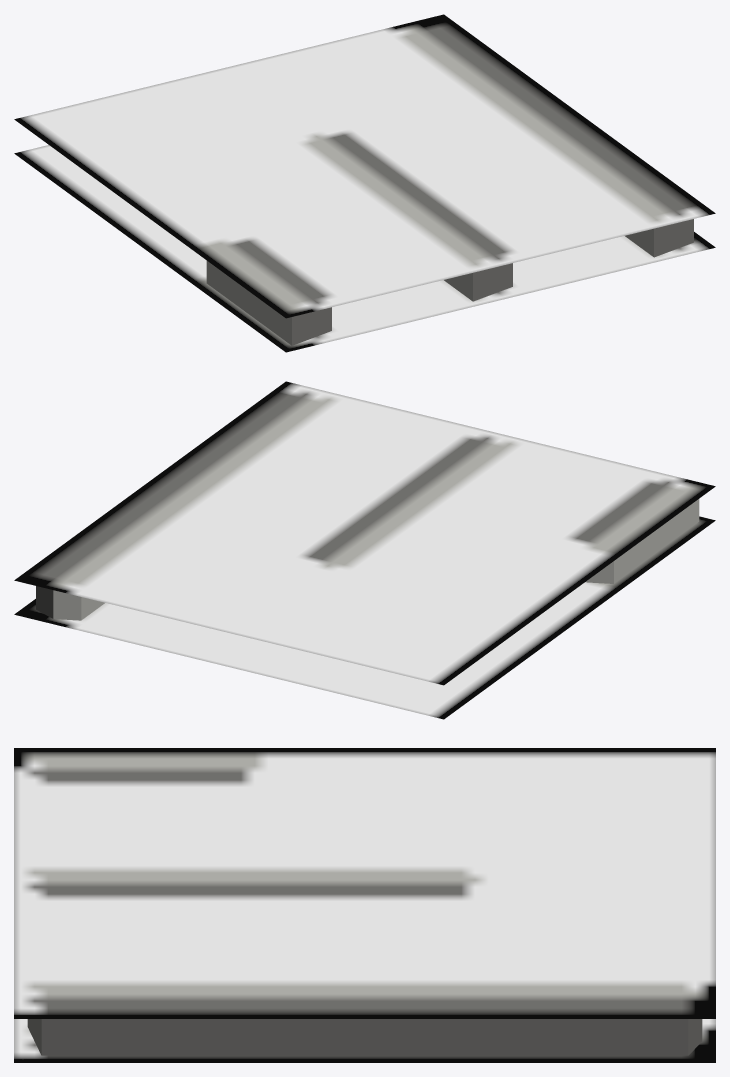
File: pz_native_fixtures_railings_01_94_frame.obj
The picture shows the model from 3 angles, top to bottom: view 1: azimuth 30°, elevation 25°; view 2: azimuth 150°, elevation 25°; view 3: azimuth 270°, elevation 25°; orthographic projection. The views are drawn at different scales.
Visible parts, largest first — view 1: pz_native_fixtures_railings_01_94_frame; view 2: pz_native_fixtures_railings_01_94_frame; view 3: pz_native_fixtures_railings_01_94_frame.
Boxes of the visible parts, x1,y1,x2,y2 form: pz_native_fixtures_railings_01_94_frame: (14,14,715,352); pz_native_fixtures_railings_01_94_frame: (14,381,715,719); pz_native_fixtures_railings_01_94_frame: (14,748,715,1062).
Size of the model in its own units: 0.5938 by 0.045 by 0.6506.
Materials: 1 (1 with a texture image).
